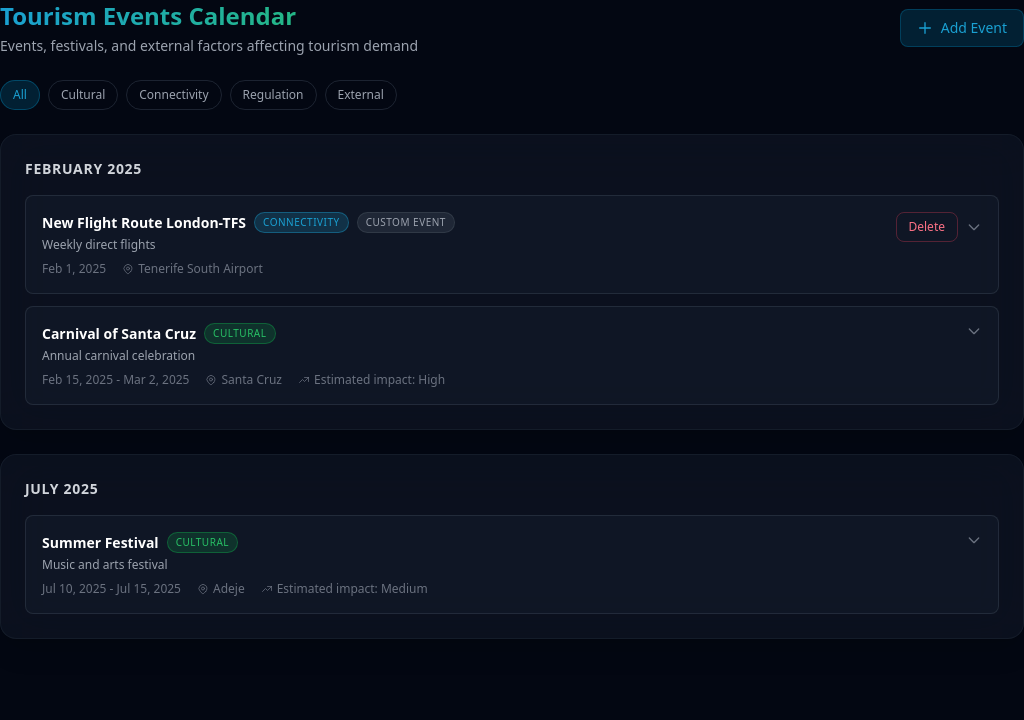
Test: EventsPage › create event › toggles the add event form when clicking 'Add Event'
The width and height of the screenshot is (1024, 720).
Expected: the field labelled "Event name *" is not shown
Click add button
Click the button "Add Event" at x=962, y=28, box x1=900 y1=9 x2=1023 y2=47
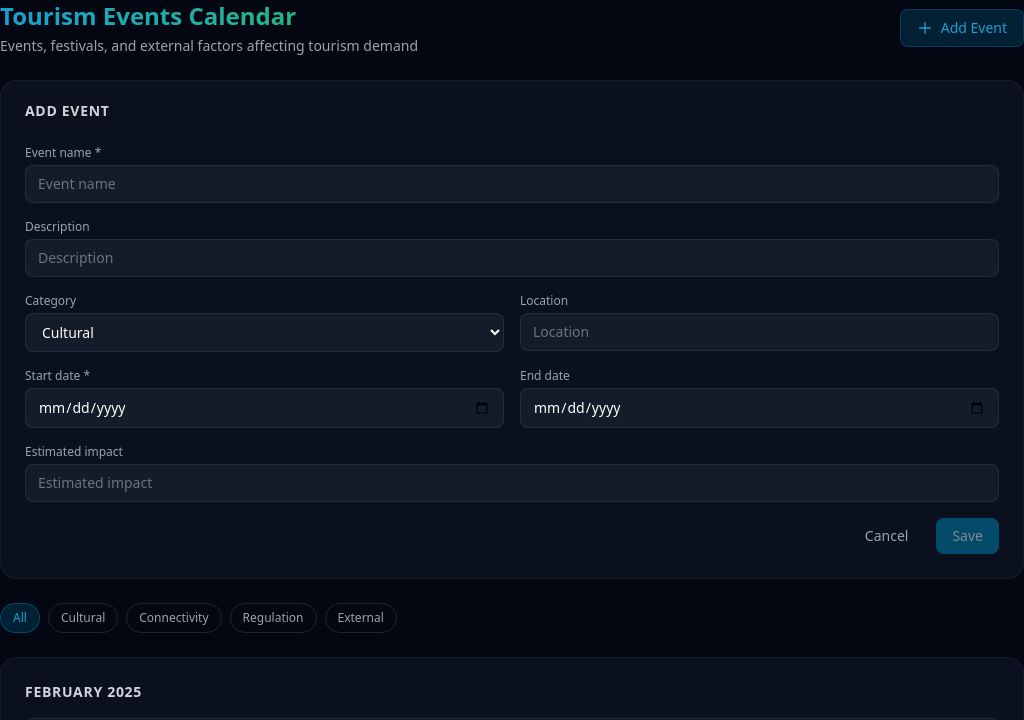
Result: the field labelled "Event name *" is shown at x1=25 y1=165 x2=999 y2=203
